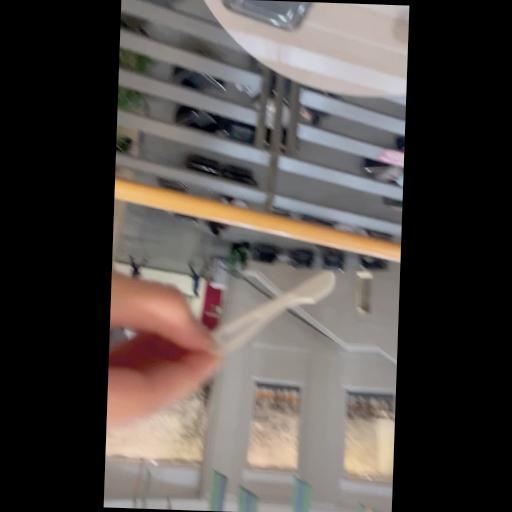utensil: (181, 254, 350, 403)
